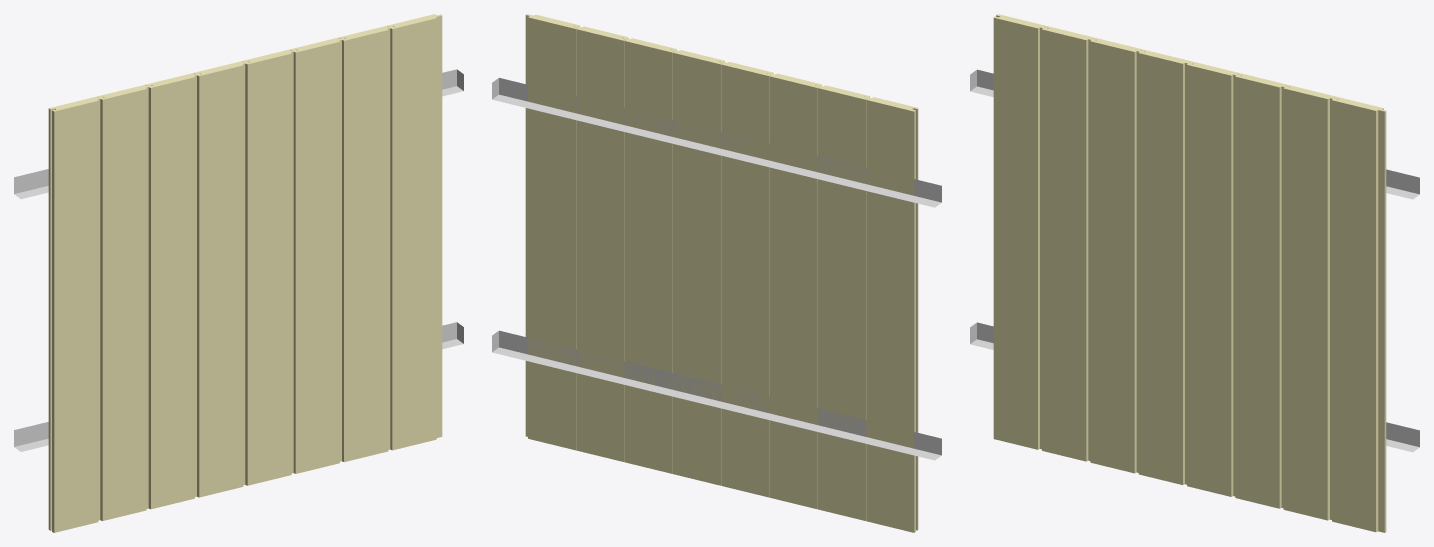
File: FVG.092.glb
The picture shows the model from 3 angles, left to right: view 1: azimuth 30°, elevation 25°; view 2: azimuth 150°, elevation 25°; view 3: azimuth 330°, elevation 25°; orthographic projection.
Visible parts, largest first — view 1: IfcCovering/Schalung, Sichtnut.007, IfcCovering/Schalung, Sichtnut, IfcCovering/Schalung, Sichtnut.001, IfcCovering/Schalung, Sichtnut.004, IfcCovering/Schalung, Sichtnut.002, IfcCovering/Schalung, Sichtnut.003, IfcCovering/Schalung, Sichtnut.006, IfcCovering/Schalung, Sichtnut.005, IfcBuildingElementProxy/VerticalElementProxy.001, IfcBuildingElementProxy/VerticalElementProxy; view 2: IfcCovering/Schalung, Sichtnut.007, IfcCovering/Schalung, Sichtnut, IfcCovering/Schalung, Sichtnut.005, IfcCovering/Schalung, Sichtnut.001, IfcCovering/Schalung, Sichtnut.004, IfcCovering/Schalung, Sichtnut.003, IfcCovering/Schalung, Sichtnut.002, IfcCovering/Schalung, Sichtnut.006, IfcBuildingElementProxy/VerticalElementProxy, IfcBuildingElementProxy/VerticalElementProxy.001; view 3: IfcCovering/Schalung, Sichtnut, IfcCovering/Schalung, Sichtnut.007, IfcCovering/Schalung, Sichtnut.003, IfcCovering/Schalung, Sichtnut.004, IfcCovering/Schalung, Sichtnut.001, IfcCovering/Schalung, Sichtnut.005, IfcCovering/Schalung, Sichtnut.002, IfcCovering/Schalung, Sichtnut.006, IfcBuildingElementProxy/VerticalElementProxy, IfcBuildingElementProxy/VerticalElementProxy.001.
Part boxes in pixels (x1,y1,x2,y2): IfcCovering/Schalung, Sichtnut.007: [48, 96, 103, 532]; IfcCovering/Schalung, Sichtnut: [387, 14, 442, 450]; IfcCovering/Schalung, Sichtnut.001: [338, 26, 393, 462]; IfcCovering/Schalung, Sichtnut.004: [194, 61, 248, 497]; IfcCovering/Schalung, Sichtnut.002: [290, 37, 345, 473]; IfcCovering/Schalung, Sichtnut.003: [242, 49, 296, 485]; IfcCovering/Schalung, Sichtnut.006: [97, 85, 151, 520]; IfcCovering/Schalung, Sichtnut.005: [145, 73, 200, 509]; IfcBuildingElementProxy/VerticalElementProxy.001: [14, 69, 463, 199]; IfcBuildingElementProxy/VerticalElementProxy: [14, 322, 463, 451]; IfcCovering/Schalung, Sichtnut.007: [864, 96, 918, 532]; IfcCovering/Schalung, Sichtnut: [525, 14, 579, 450]; IfcCovering/Schalung, Sichtnut.005: [767, 73, 821, 509]; IfcCovering/Schalung, Sichtnut.001: [574, 26, 628, 461]; IfcCovering/Schalung, Sichtnut.004: [719, 61, 773, 497]; IfcCovering/Schalung, Sichtnut.003: [671, 49, 724, 485]; IfcCovering/Schalung, Sichtnut.002: [622, 37, 676, 473]; IfcCovering/Schalung, Sichtnut.006: [816, 84, 869, 520]; IfcBuildingElementProxy/VerticalElementProxy: [492, 330, 941, 460]; IfcBuildingElementProxy/VerticalElementProxy.001: [492, 78, 941, 207]; IfcCovering/Schalung, Sichtnut: [1332, 96, 1386, 532]; IfcCovering/Schalung, Sichtnut.007: [993, 14, 1047, 449]; IfcCovering/Schalung, Sichtnut.003: [1187, 61, 1241, 496]; IfcCovering/Schalung, Sichtnut.004: [1138, 49, 1192, 484]; IfcCovering/Schalung, Sichtnut.001: [1283, 85, 1337, 520]; IfcCovering/Schalung, Sichtnut.005: [1090, 37, 1144, 473]; IfcCovering/Schalung, Sichtnut.002: [1235, 73, 1289, 508]; IfcCovering/Schalung, Sichtnut.006: [1042, 26, 1096, 461]; IfcBuildingElementProxy/VerticalElementProxy: [970, 322, 1419, 452]; IfcBuildingElementProxy/VerticalElementProxy.001: [970, 69, 1419, 199].
Bounding box in the file's own units: 1.1 × 1 × 0.0506.
